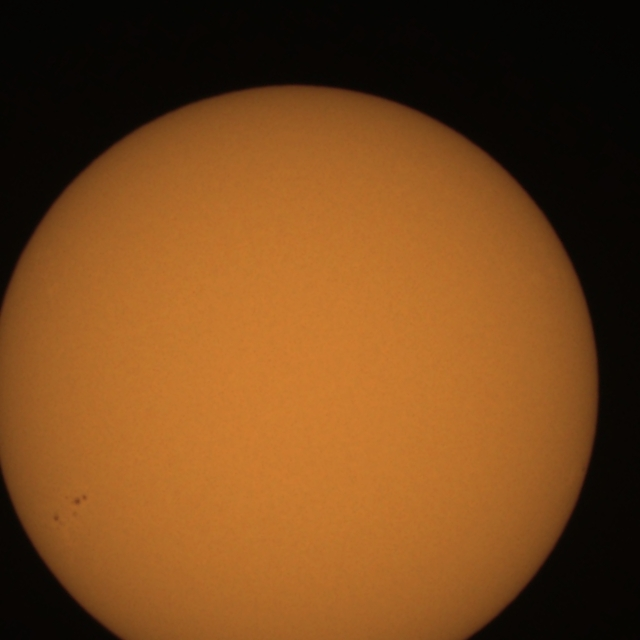sunspot: (59, 493, 88, 520), (52, 513, 61, 524)
